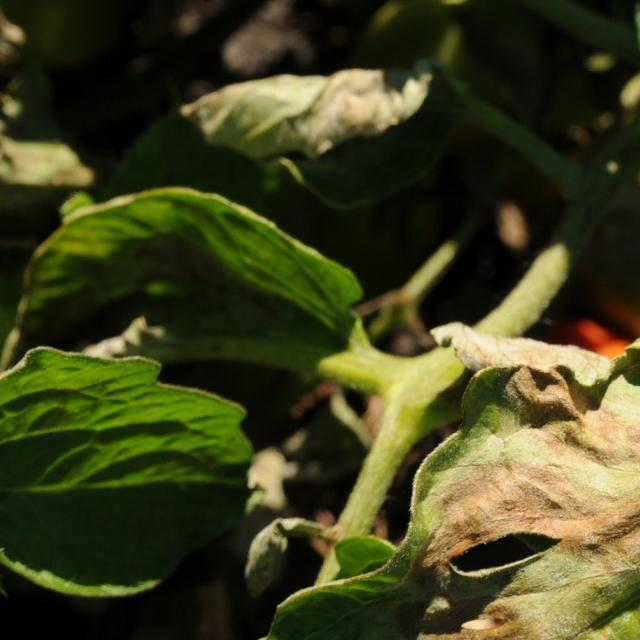Tomato leaf late blight: (255, 287, 640, 640)
